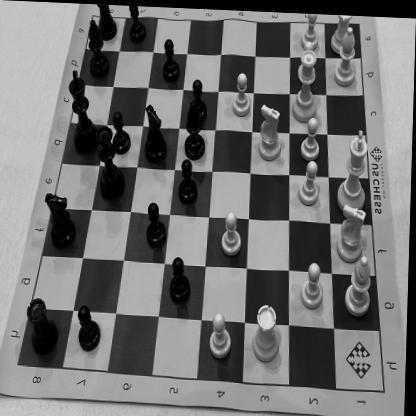black-bishop: (88, 20, 114, 78)
black-king: (67, 64, 101, 156)
black-knight: (44, 190, 81, 245), (146, 96, 173, 159), (184, 106, 212, 162)
black-pawn: (77, 299, 103, 350), (178, 158, 203, 208), (166, 250, 192, 298), (146, 197, 170, 249), (162, 36, 184, 80), (112, 110, 132, 154), (191, 76, 210, 118), (127, 5, 147, 43)
black-queen: (93, 134, 127, 204)
black-rook: (28, 291, 60, 356), (96, 4, 121, 39)
white-bishop: (330, 27, 361, 95), (348, 249, 379, 313)
white-king: (339, 129, 372, 210)
white-knight: (338, 196, 372, 263), (258, 98, 286, 162)
white-pawn: (295, 148, 324, 204), (292, 105, 320, 161), (212, 304, 241, 358), (217, 206, 245, 256), (300, 258, 324, 306), (296, 10, 322, 54), (233, 70, 254, 118), (298, 40, 316, 82)
white-queen: (290, 50, 322, 108)
white-rook: (251, 299, 283, 364), (328, 12, 359, 66)
